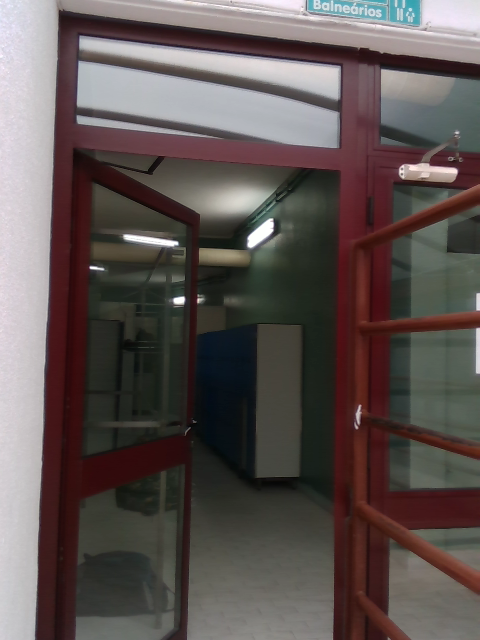open: (39, 134, 363, 639)
